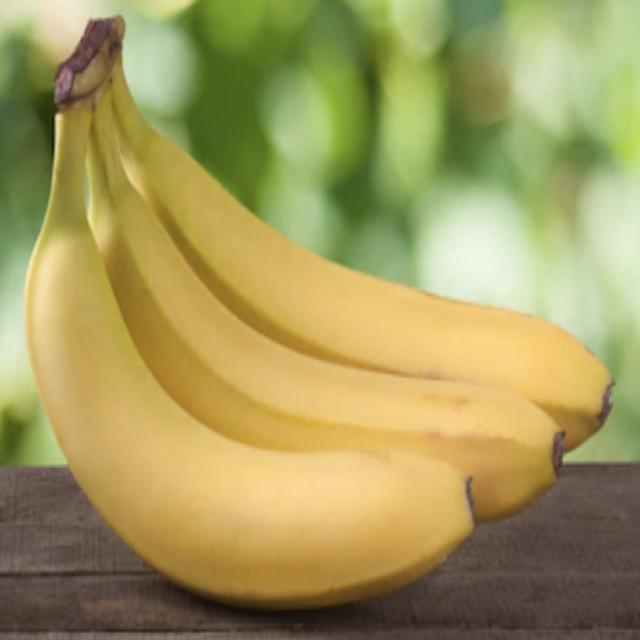Banana: (28, 28, 608, 628)
